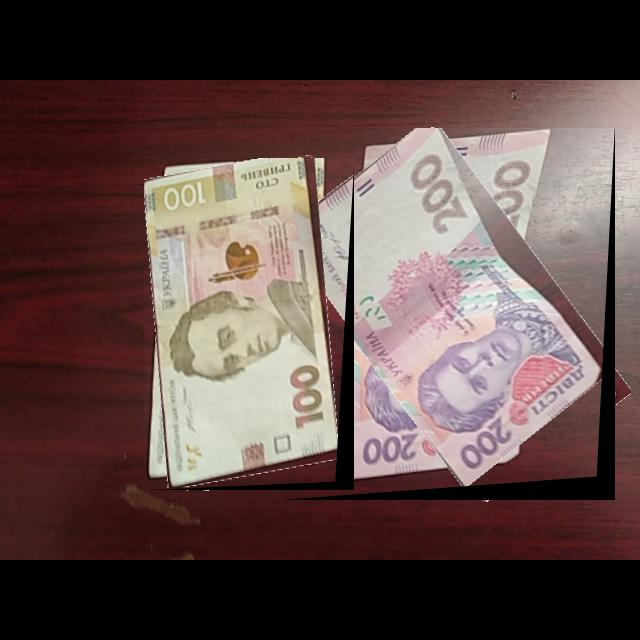100uah: (144, 158, 342, 490)
200uah: (285, 128, 605, 490)
